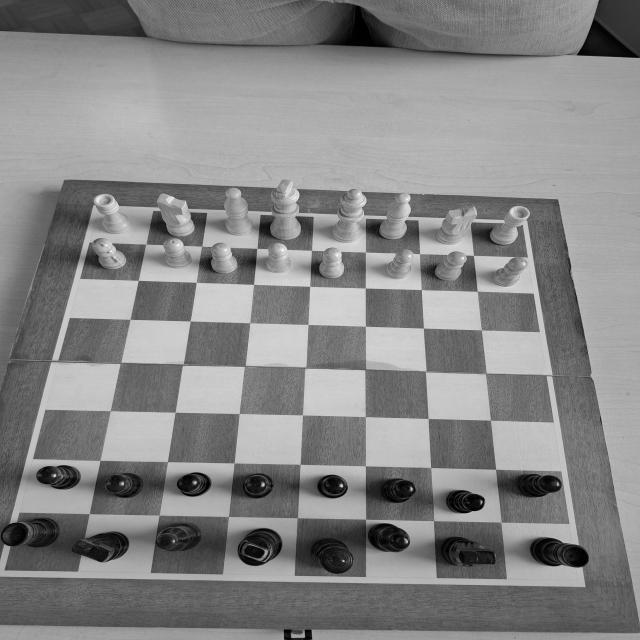chess-table-corners: (560, 568, 592, 591), (90, 203, 108, 216), (514, 220, 531, 231), (0, 565, 12, 575)
